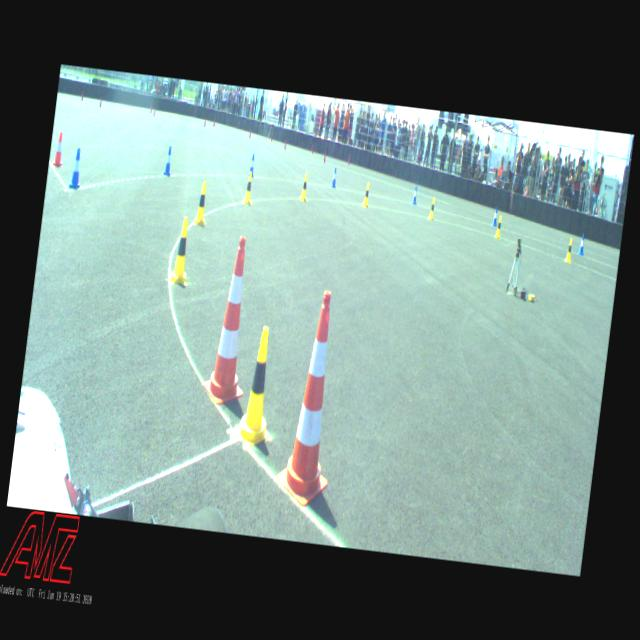blue_cone: (68, 146, 84, 190), (162, 146, 174, 176), (248, 153, 256, 177), (578, 233, 586, 256), (330, 167, 338, 187), (411, 184, 418, 204), (492, 206, 498, 226)
large_orange_cone: (274, 286, 350, 507), (202, 232, 262, 406)
orange_cone: (51, 130, 66, 166)
unknown_cone: (202, 116, 206, 128), (80, 91, 84, 101), (310, 144, 314, 154), (99, 96, 102, 108), (152, 106, 156, 115), (248, 128, 251, 139), (323, 151, 326, 162), (270, 132, 273, 142), (212, 117, 215, 127), (347, 156, 350, 166), (149, 105, 152, 114), (284, 140, 286, 150)
yellow_cone: (234, 324, 282, 449), (167, 215, 194, 284), (193, 179, 210, 225), (242, 170, 254, 204), (299, 171, 309, 201), (564, 236, 574, 262), (362, 181, 371, 207), (428, 197, 436, 220), (494, 215, 502, 238)
